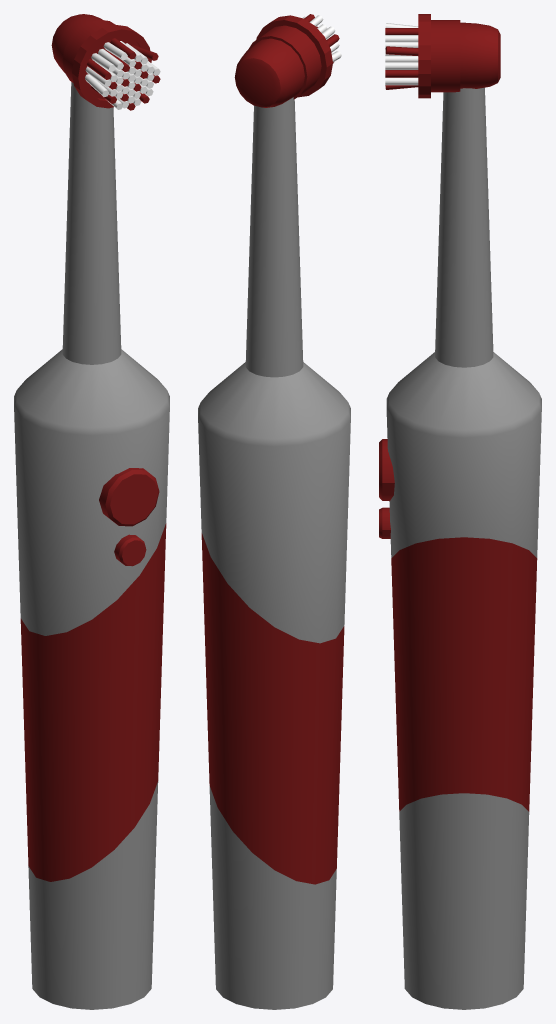
File: brosse_a_dent.FBX
3 views of the same model, side by side, from view 1: azimuth 30°, elevation 25°; view 2: azimuth 150°, elevation 25°; view 3: azimuth 270°, elevation 25° (orthographic).
Visible parts, largest first — view 1: Cylinder001, Cylinder048, Cylinder002, Cylinder049, Cylinder050; view 2: Cylinder001, Cylinder002, Cylinder048; view 3: Cylinder001, Cylinder002, Cylinder048, Cylinder049.
Part boxes in pixels (x1,y1,x2,y2): Cylinder001: (14,82,169,1009); Cylinder048: (85,38,160,110); Cylinder002: (51,14,151,108); Cylinder049: (99,468,159,526); Cylinder050: (114,534,146,566); Cylinder001: (198,97,350,1009); Cylinder002: (234,15,332,107); Cylinder048: (302,14,341,63); Cylinder001: (386,87,541,1009); Cylinder002: (418,14,500,98); Cylinder048: (385,23,418,89); Cylinder049: (379,439,394,500).
Bounding box in the file's own units: 0.0392 × 0.2649 × 0.0404.
